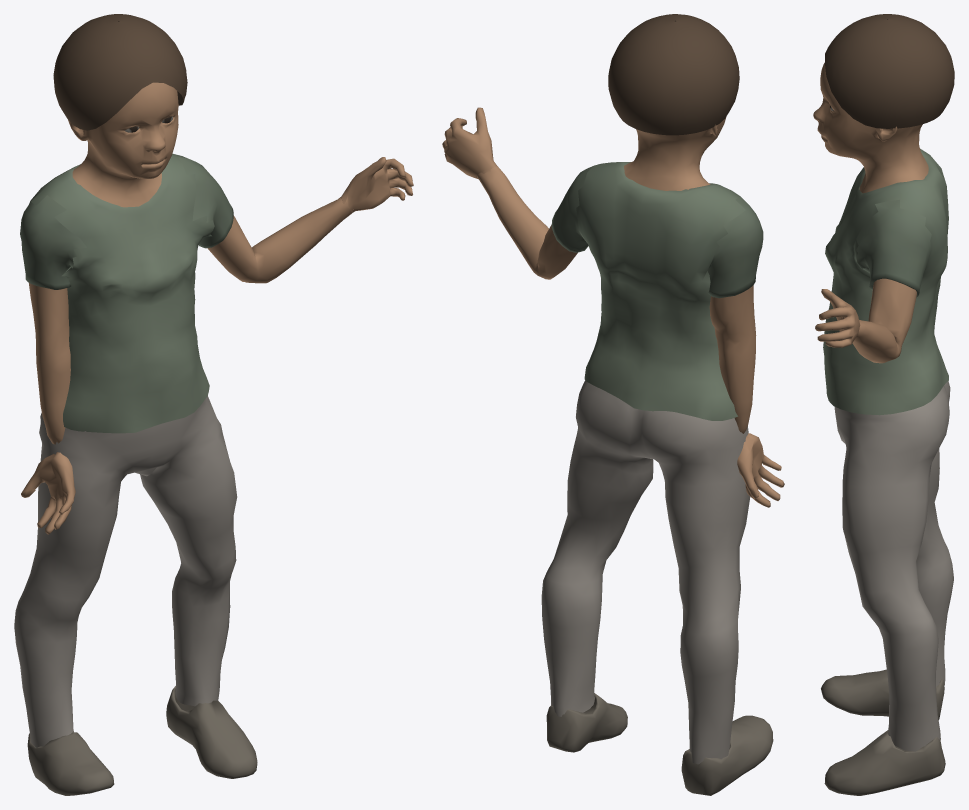
Rendered from participant-07-middle.glb.
3 renders of one model, left to right at view 1: azimuth 30°, elevation 25°; view 2: azimuth 150°, elevation 25°; view 3: azimuth 270°, elevation 25°, orthographic. The views are drawn at different scales.
Parts seen in each view (by area): view 1: Participant anatomy and ordinary clothes; view 2: Participant anatomy and ordinary clothes; view 3: Participant anatomy and ordinary clothes.
Boxes of the visible parts, <box> form: Participant anatomy and ordinary clothes: <box>14,14,413,795</box>; Participant anatomy and ordinary clothes: <box>442,14,784,795</box>; Participant anatomy and ordinary clothes: <box>813,14,954,795</box>.
Bounding box in the file's own units: 0.5871 × 1.2 × 0.2135.
